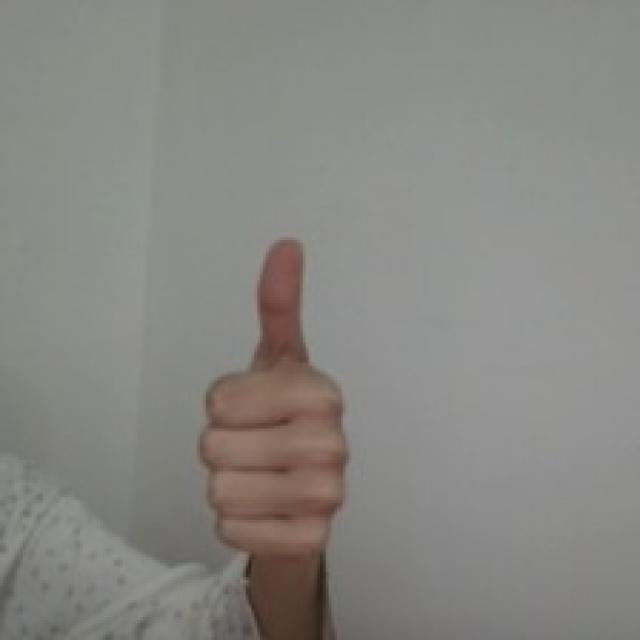fine: (191, 227, 354, 568)
